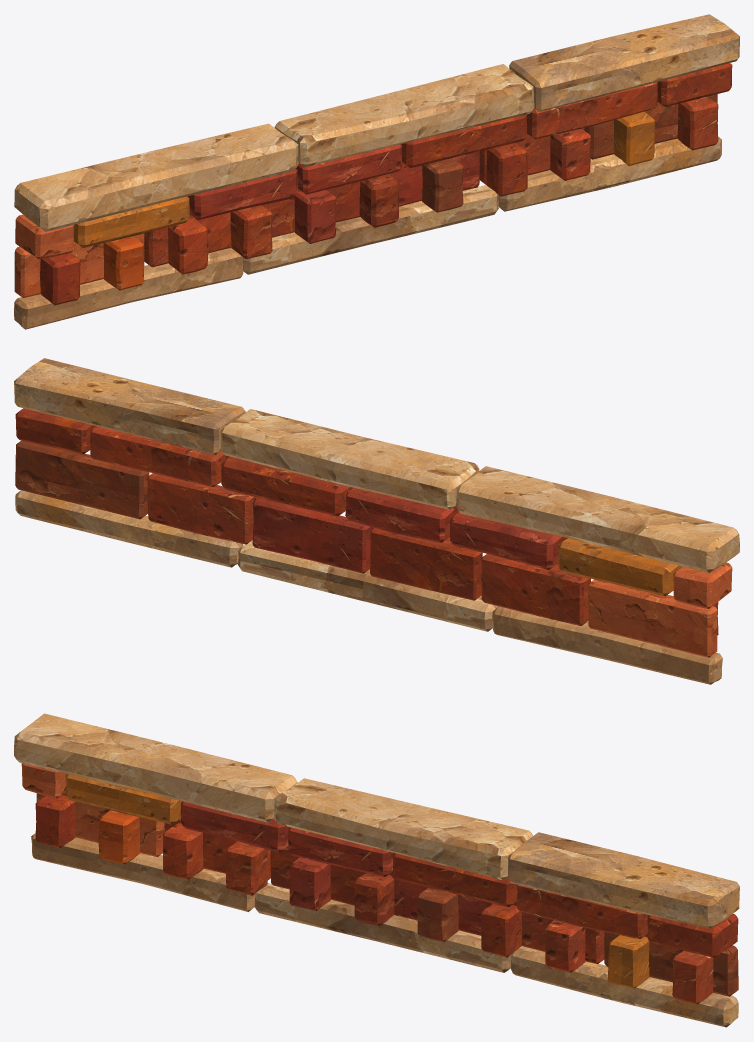
Rendered from cornice__clay_brick.glb.
3 views of the same model, one above another, from view 1: azimuth 30°, elevation 25°; view 2: azimuth 150°, elevation 25°; view 3: azimuth 330°, elevation 25° (orthographic).
Visible parts, largest first — view 1: model; view 2: model; view 3: model.
Boxes of the visible parts, x1,y1,x2,y2 form: model: (14,14,739,329); model: (14,358,739,684); model: (14,713,739,1027).
Bounding box in the file's own units: 1.98 × 0.3858 × 0.157.
10 materials, 10 textured.
